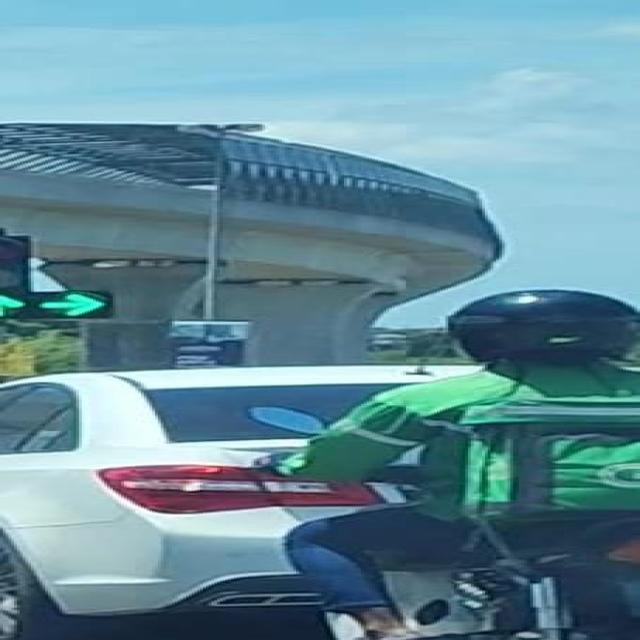green_light: (25, 234, 110, 319)
